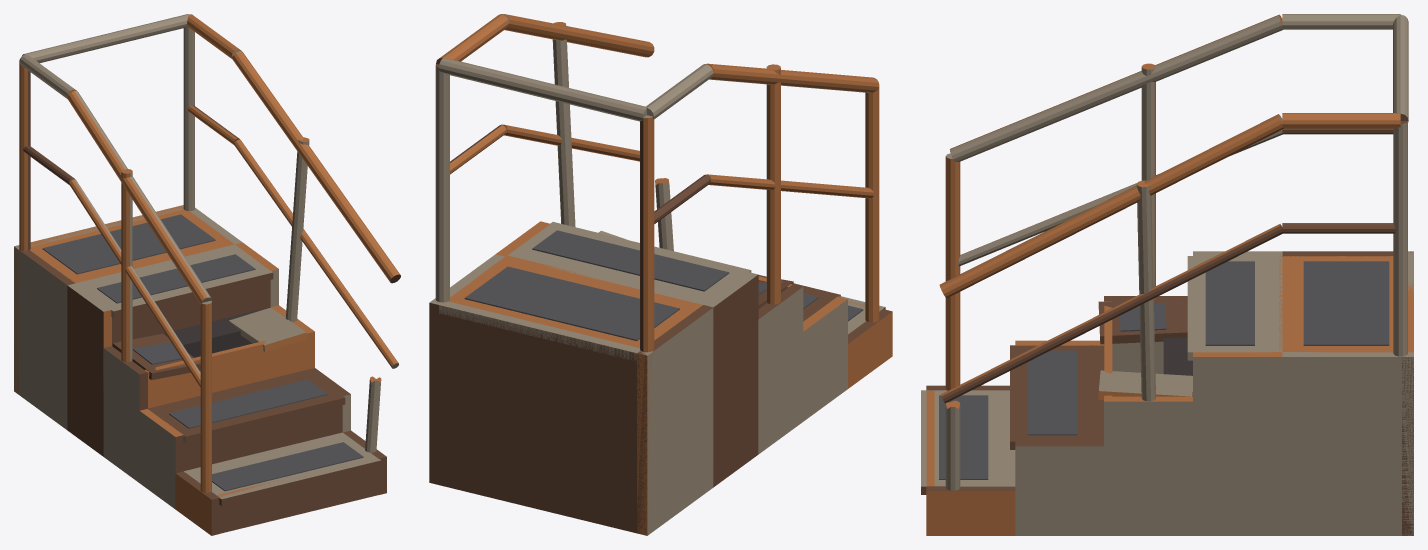
The model's file is Rehabilitation_Room_stair2.fbx.
The picture shows the model from 3 angles, left to right: view 1: azimuth 30°, elevation 25°; view 2: azimuth 150°, elevation 25°; view 3: azimuth 270°, elevation 25°; orthographic projection. The views are drawn at different scales.
Visible parts, largest first — view 1: 04_RehabStairs_Damaged_Mesh; view 2: 04_RehabStairs_Damaged_Mesh; view 3: 04_RehabStairs_Damaged_Mesh.
Boxes of the visible parts, x1,y1,x2,y2 form: 04_RehabStairs_Damaged_Mesh: [14, 14, 400, 535]; 04_RehabStairs_Damaged_Mesh: [429, 14, 892, 535]; 04_RehabStairs_Damaged_Mesh: [921, 14, 1413, 535].
Size of the model in its own units: 84.99 by 140 by 150.
